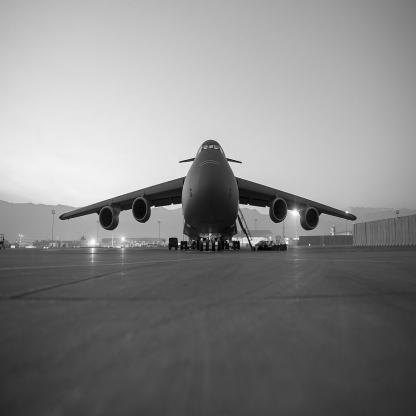C5: (60, 140, 358, 253)
